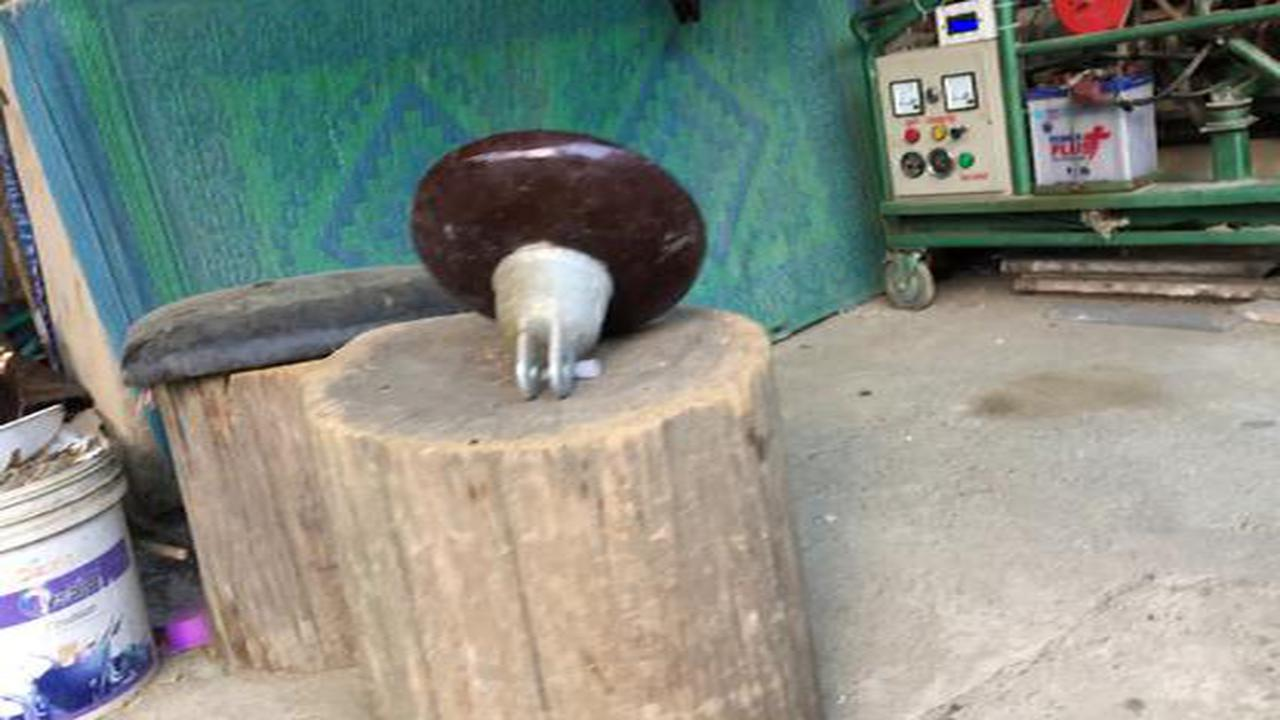insulator_disc: (407, 127, 716, 399)
